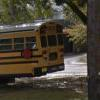Bus: (1, 19, 68, 83)
